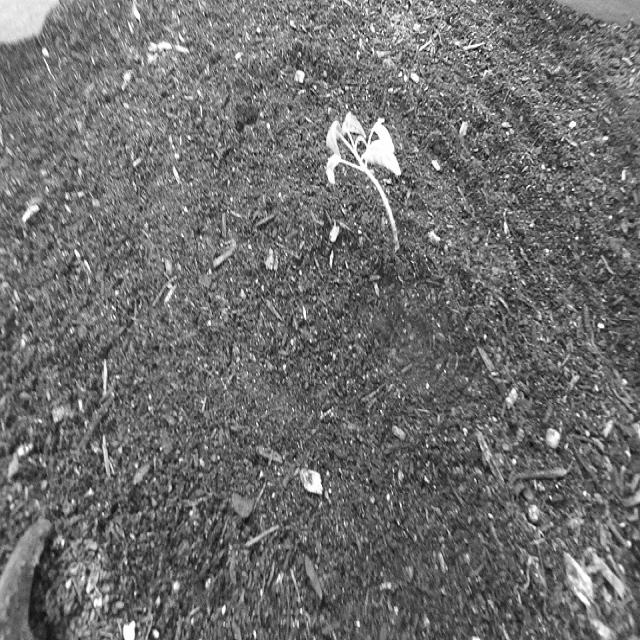Unhealthy: (324, 106, 406, 264)
